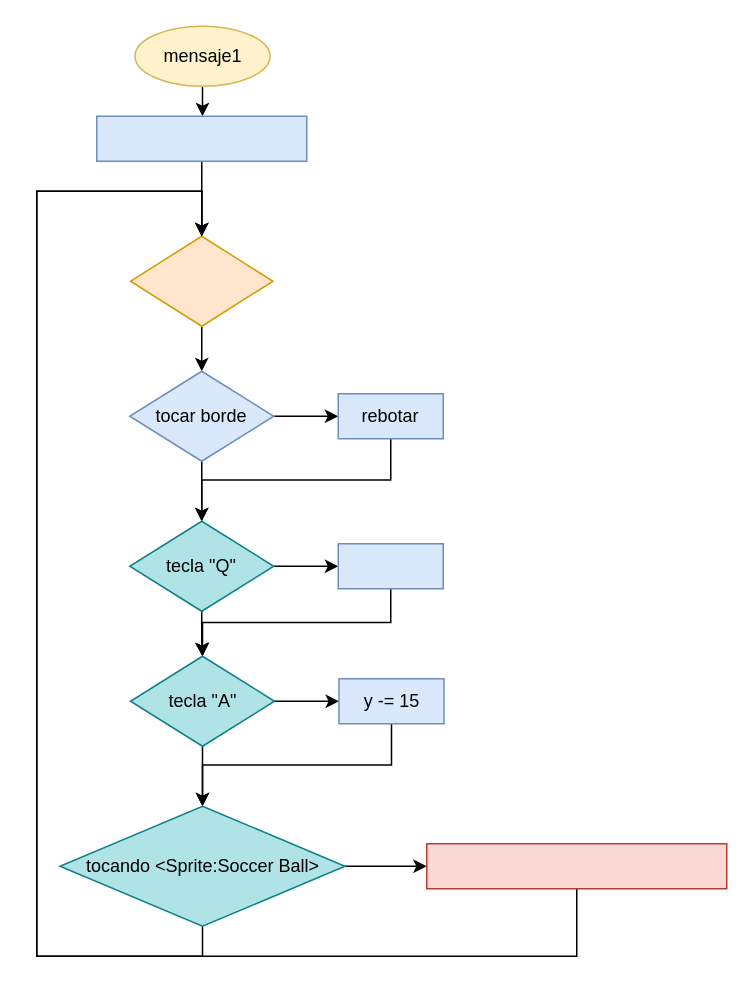
Image size: 753x995. Some labels were removed from this diagram. Here are the shapes that lost their labels. From the top down, the box of each, then its label:
(95, 115, 307, 161): posición: x= -224, y= 0
(129, 235, 273, 326): true
(337, 542, 443, 589): y += 15
(425, 842, 727, 889): iniciar sonido <Basket
